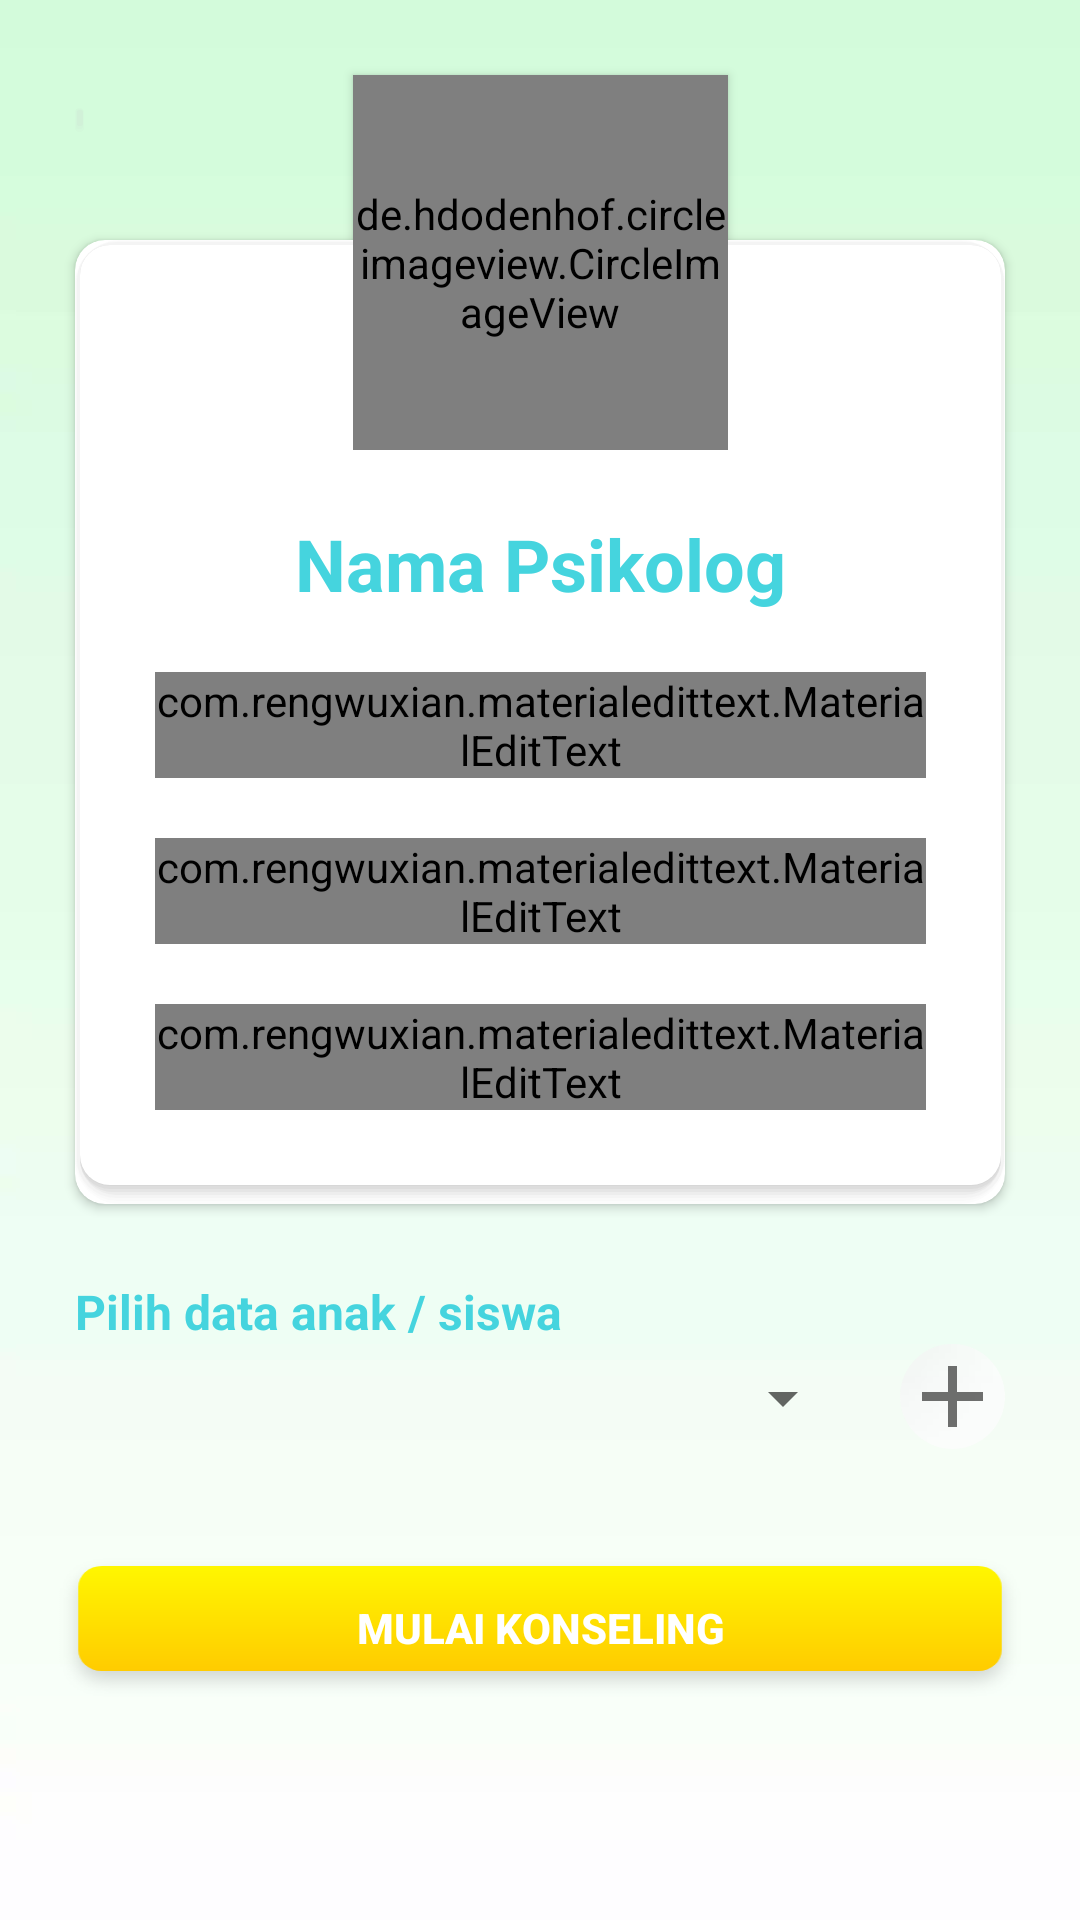

Point at icon controls on the screen. Image size 1080×1920, points as point (x, y).
add: point (952, 1396)
